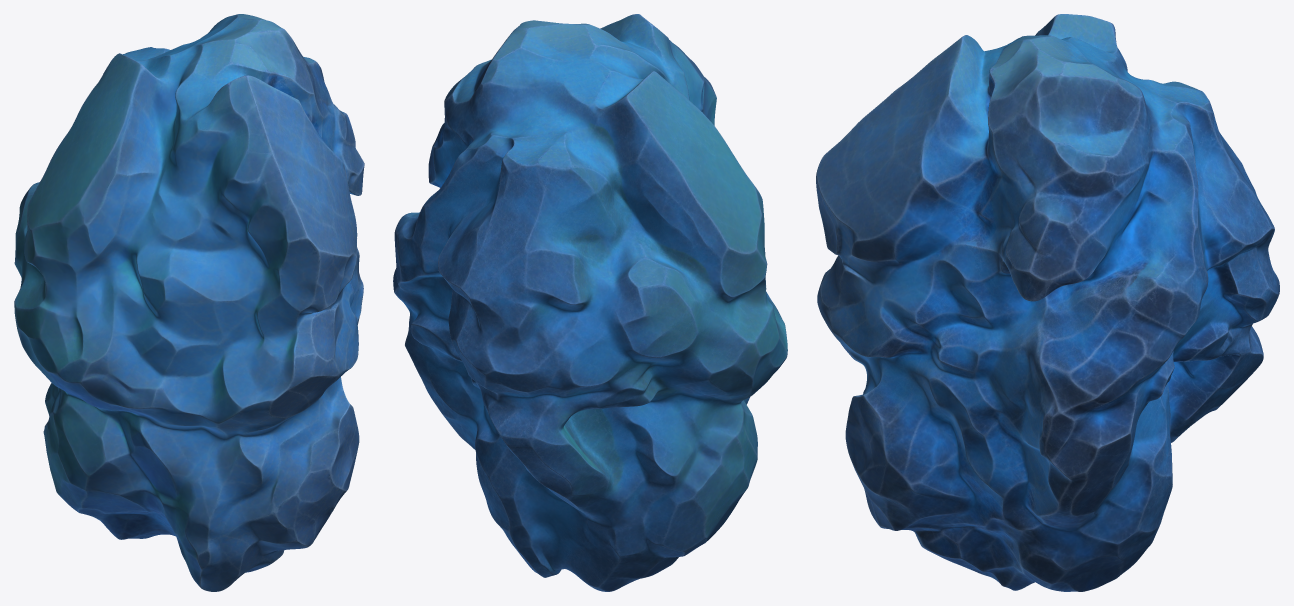
3 renders of one model, left to right at view 1: azimuth 30°, elevation 25°; view 2: azimuth 150°, elevation 25°; view 3: azimuth 270°, elevation 25°, orthographic. The views are drawn at different scales.
Size of the model in its own units: 1.28 by 1.9 by 1.43.
1 material, 1 textured.
